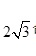sqrt: (11, 19, 30, 38)
